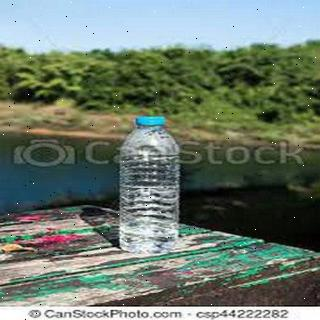Plastic-bottle: (115, 116, 185, 255)
